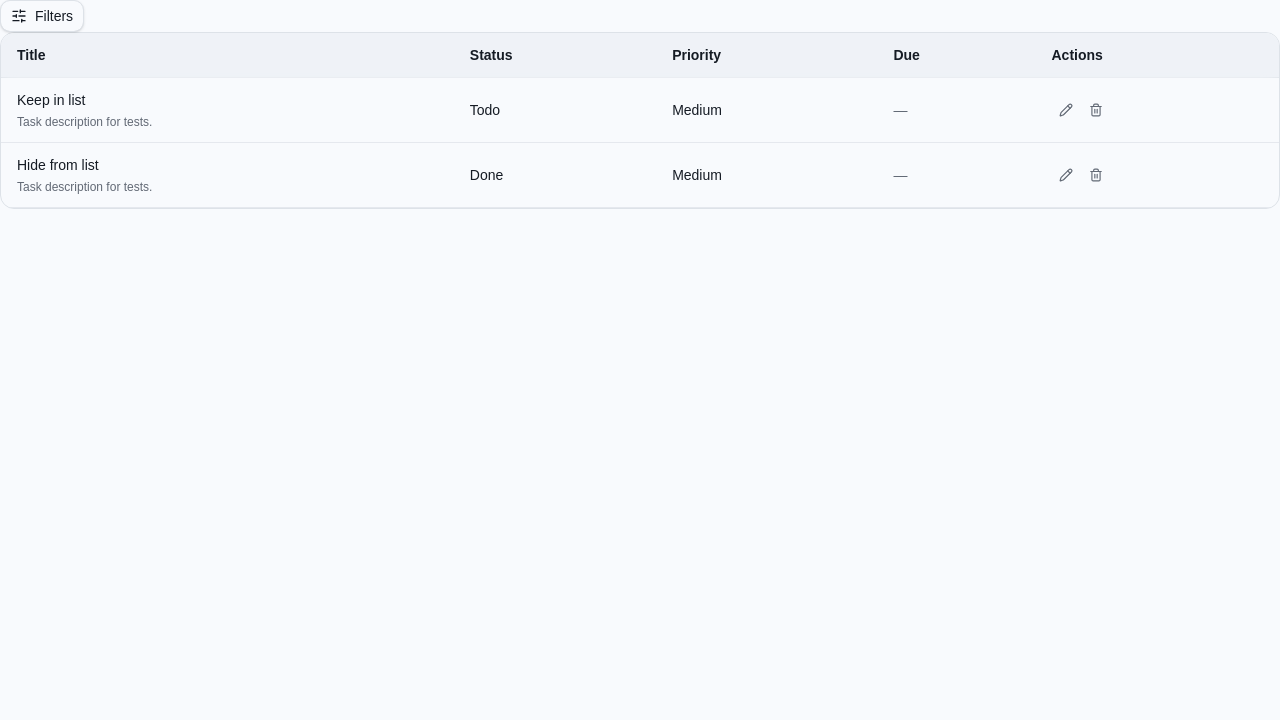
Test: ListView › applies a status filter immediately without a refresh
The width and height of the screenshot is (1280, 720).
Expected: the text "Keep in list" is shown, [17,92,86,108]
Expected: the text "Hide from list" is shown, [17,157,99,173]
Step 1. Click the button with aria-label "open filters" → (42, 16), box [0,0,84,32]
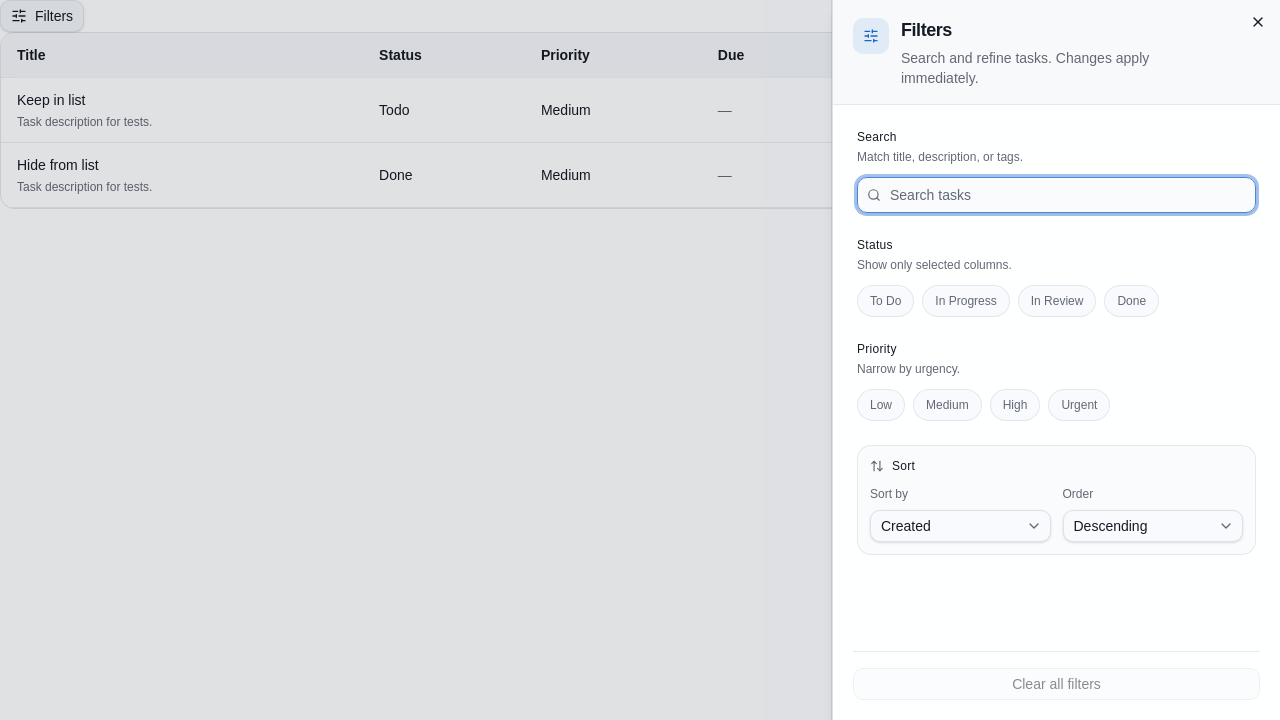
Step 2. Click the button "To Do" → (886, 301), box [857,285,914,317]
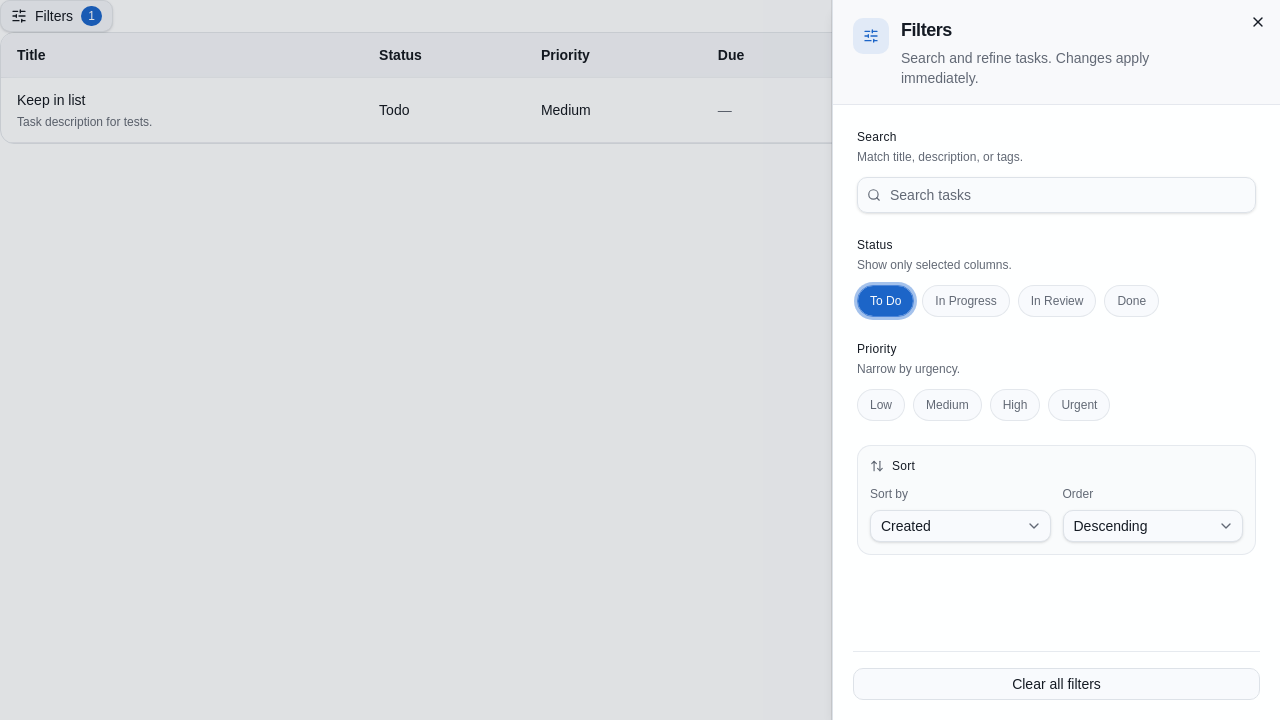
Expected: the text "Keep in list" is shown, [17,92,86,108]
Expected: the text "Hide from list" is gone
